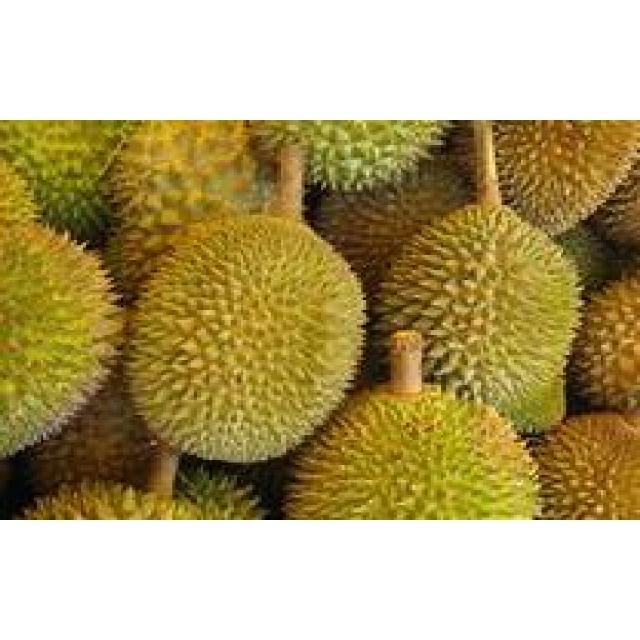fruit: (108, 195, 378, 475), (344, 180, 594, 435), (0, 190, 126, 488), (492, 115, 640, 243), (554, 252, 640, 448)
